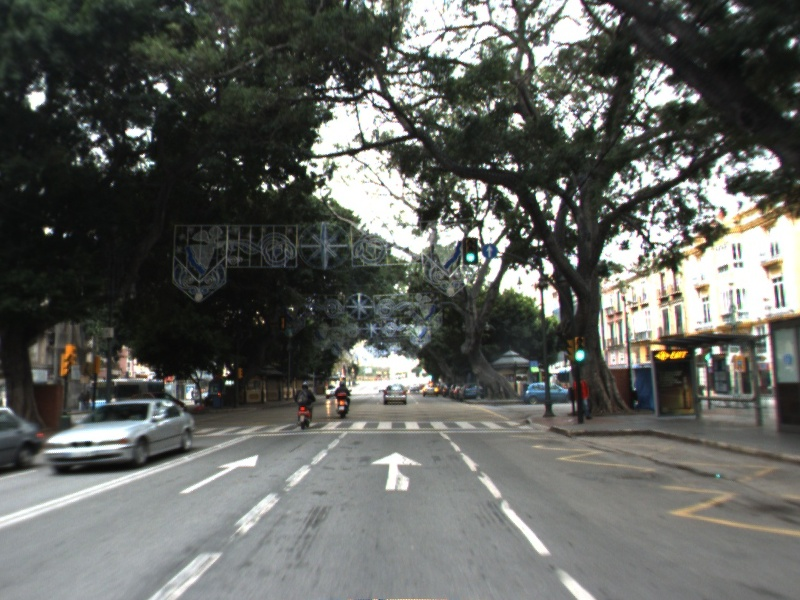STRAIGHT: (177, 453, 260, 495), (369, 450, 424, 493)
